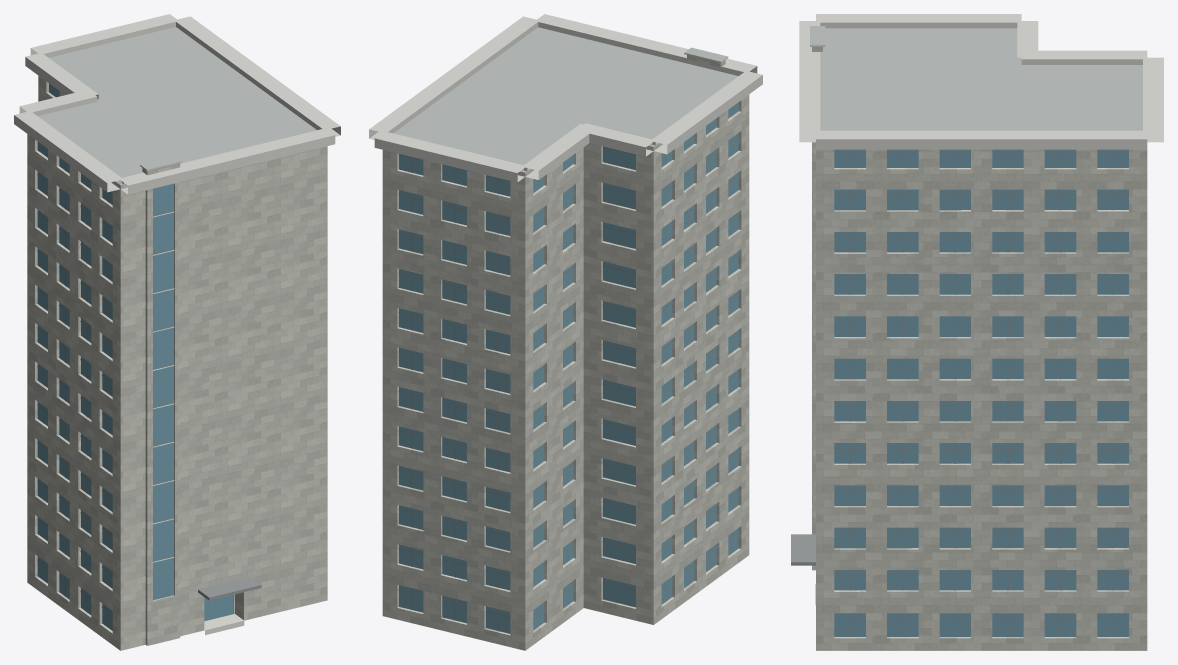
The picture shows the model from 3 angles, left to right: view 1: azimuth 30°, elevation 25°; view 2: azimuth 150°, elevation 25°; view 3: azimuth 270°, elevation 25°; orthographic projection. The views are drawn at different scales.
Parts seen in each view (by area): view 1: b402__wall, unist-batch-b402__roof, b402__glass, b402__trim, b402__frame, b402__canopy, b402__entranceThreshold_0; view 2: b402__wall, b402__glass, unist-batch-b402__roof, b402__trim, b402__frame; view 3: b402__wall, b402__glass, unist-batch-b402__roof, b402__trim, b402__frame, b402__canopy.
Boxes of the visible parts, x1,y1,x2,y2 form: b402__wall: (27,75,327,650); unist-batch-b402__roof: (28,27,327,650); b402__glass: (37,83,233,630); b402__trim: (14,14,340,194); b402__frame: (37,146,215,627); b402__canopy: (198,576,261,600); b402__entranceThreshold_0: (204,614,244,635); b402__wall: (382,55,749,650); b402__glass: (399,102,738,633); unist-batch-b402__roof: (383,27,747,650); b402__trim: (369,14,762,182); b402__frame: (398,107,739,631); b402__wall: (812,47,1147,650); b402__glass: (834,149,1128,636); unist-batch-b402__roof: (810,26,1146,650); b402__trim: (799,14,1163,149); b402__frame: (834,149,1128,636); b402__canopy: (791,534,815,565).
Bounding box in the file's own units: 21.33 × 42.1 × 26.79.
Materials: 7 (1 with a texture image).
